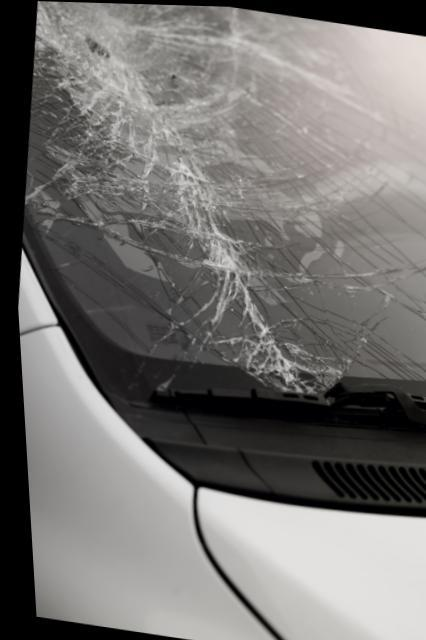glass shatter: (20, 1, 426, 403)
